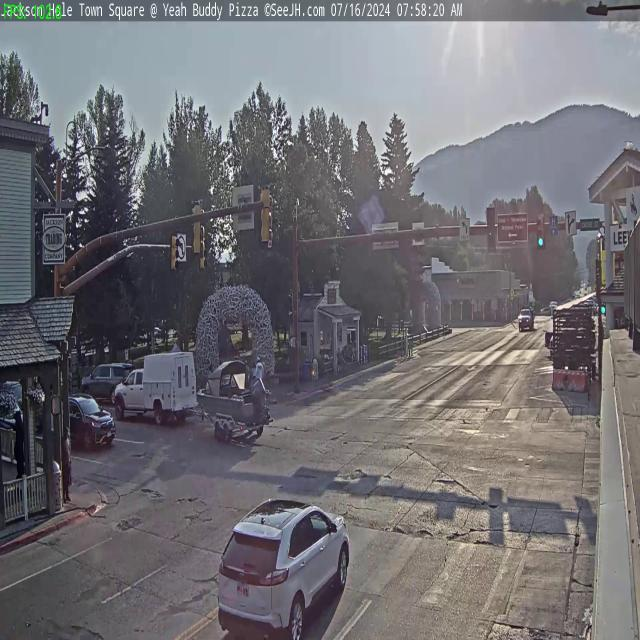person: (61, 423, 71, 502), (256, 350, 264, 390), (252, 361, 257, 394)
suv: (213, 494, 350, 640), (55, 394, 118, 451), (81, 360, 133, 408)
traffic light: (191, 199, 204, 256), (260, 184, 272, 244), (486, 207, 497, 254), (171, 233, 180, 272), (537, 214, 545, 248)
truck: (116, 352, 198, 421)
